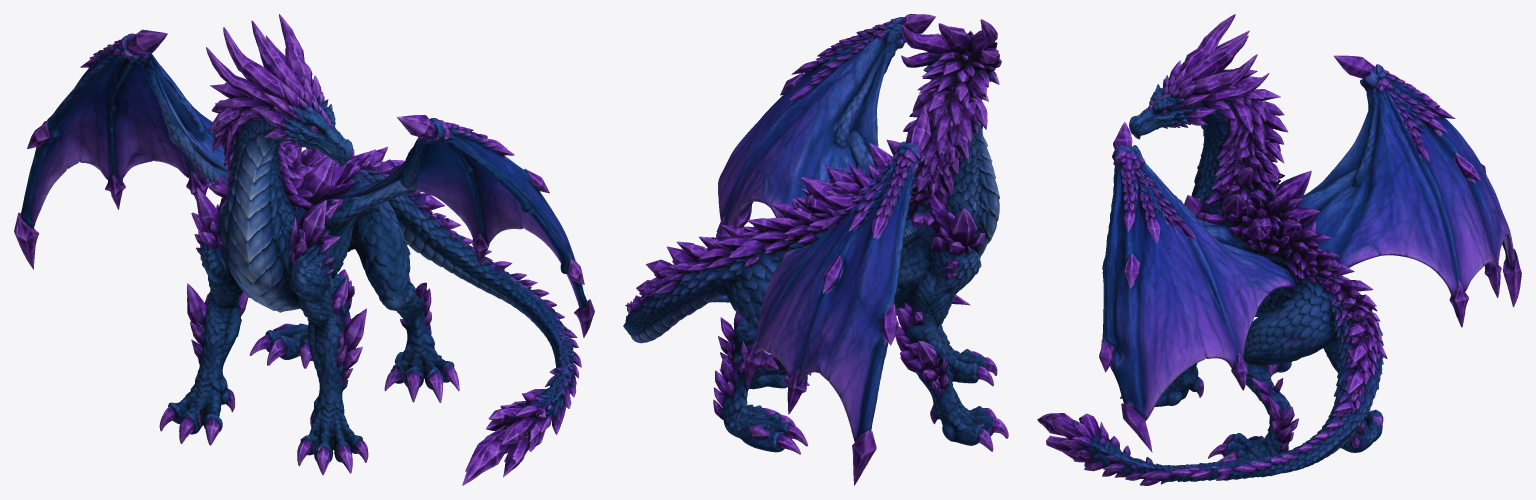
Rendered from crystal-dragon.glb.
3 views of the same model, side by side, from view 1: azimuth 30°, elevation 25°; view 2: azimuth 150°, elevation 25°; view 3: azimuth 270°, elevation 25° (orthographic). The views are drawn at different scales.
Parts seen in each view (by area): view 1: crystal-dragon; view 2: crystal-dragon; view 3: crystal-dragon.
Part boxes in pixels (x1,y1,x2,y2): crystal-dragon: [14, 14, 594, 485]; crystal-dragon: [623, 14, 1008, 485]; crystal-dragon: [1037, 14, 1521, 485].
Size of the model in its own units: 4.82 by 4.95 by 6.
1 material, 1 textured.
